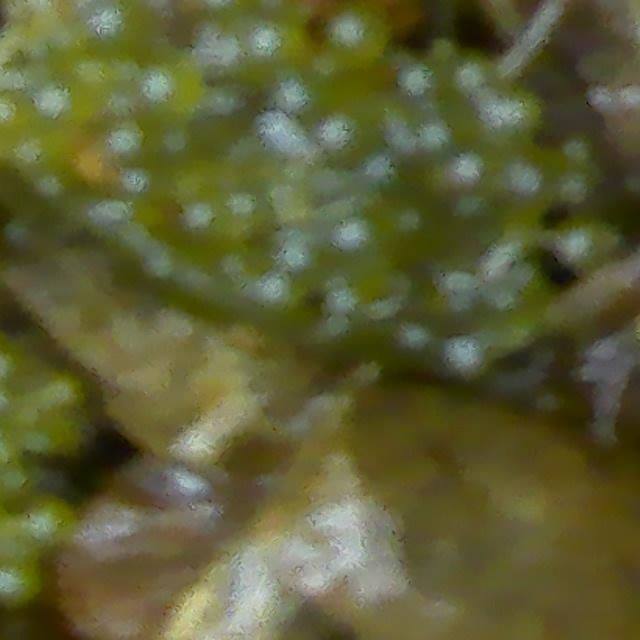SeaGrape: (140, 58, 200, 116), (329, 3, 385, 61), (88, 5, 143, 49)
